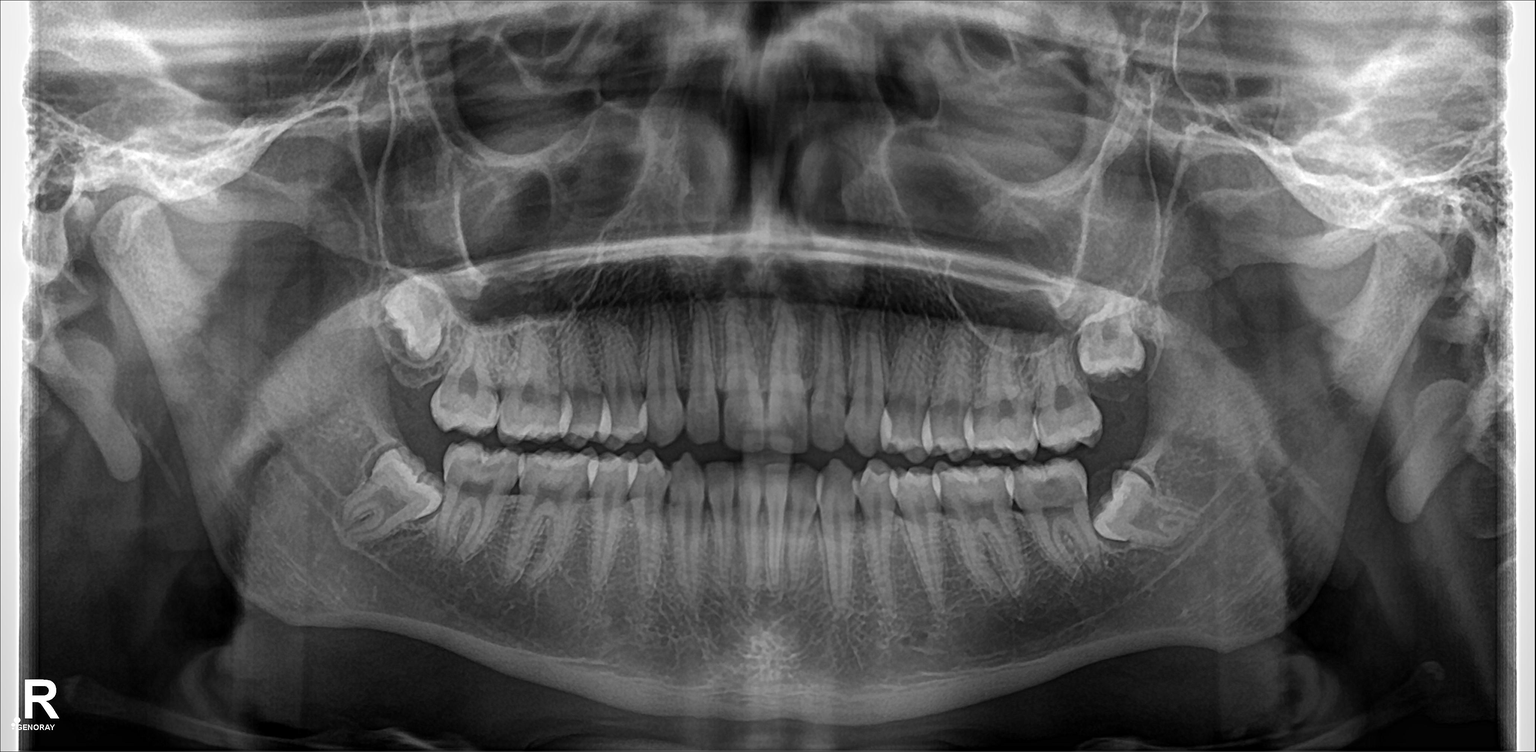Dental Caries: (1026, 471, 1089, 523)
Impacted Third Molar: (367, 277, 454, 368), (328, 467, 437, 538), (1102, 462, 1180, 551), (1080, 320, 1144, 377)
